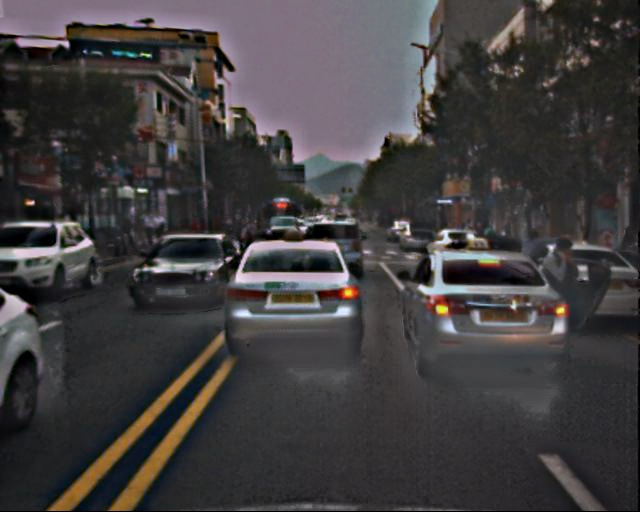person: (537, 240, 585, 356), (515, 228, 547, 307), (121, 209, 166, 247), (224, 213, 253, 248)
